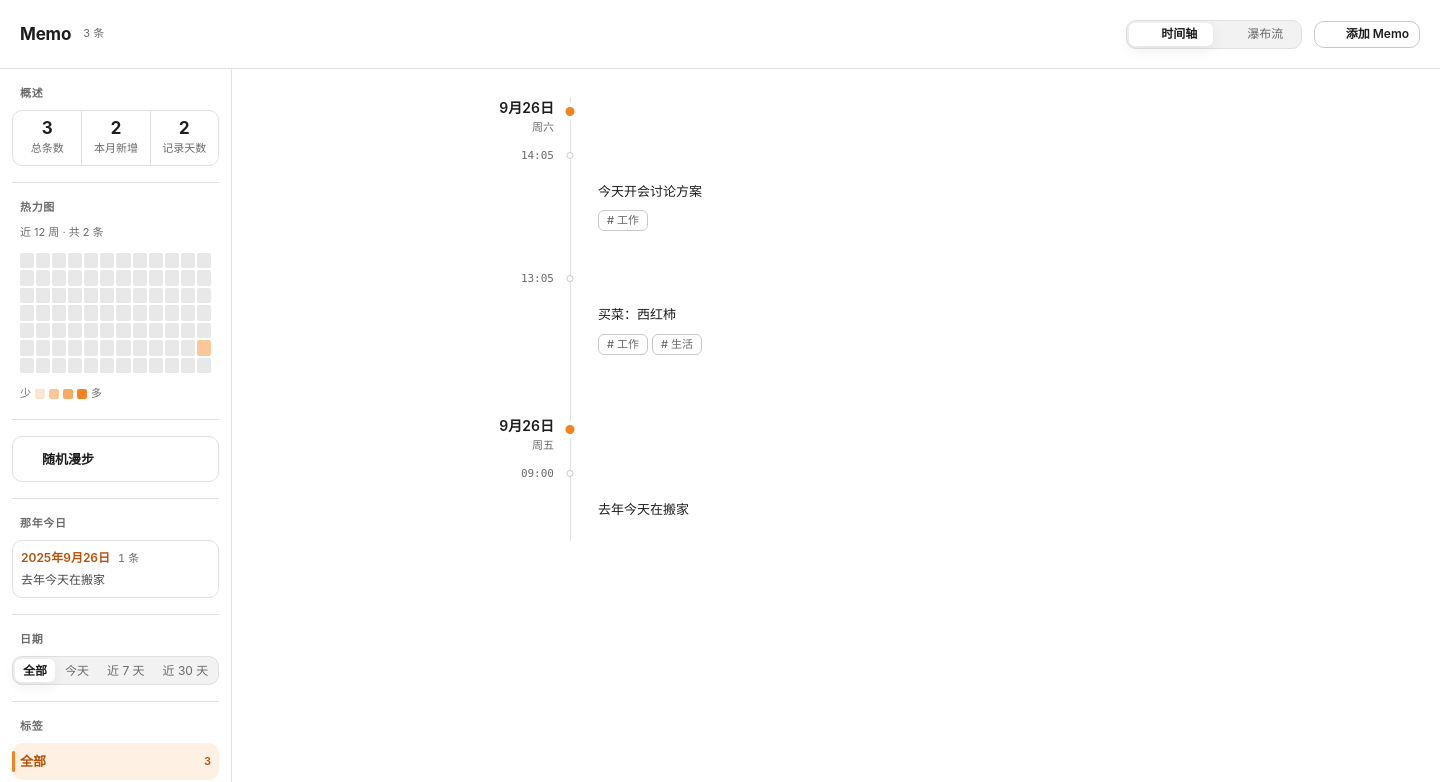
Test: 视图切换与图册 › 默认时间轴；切到瀑布流后没有图就给空态，出口是「切回时间轴」
Expected: the element with class "timeline" is shown, [466,89,1206,549]
Click the button "瀑布流" at (1257, 34), box [1215,22,1299,46]
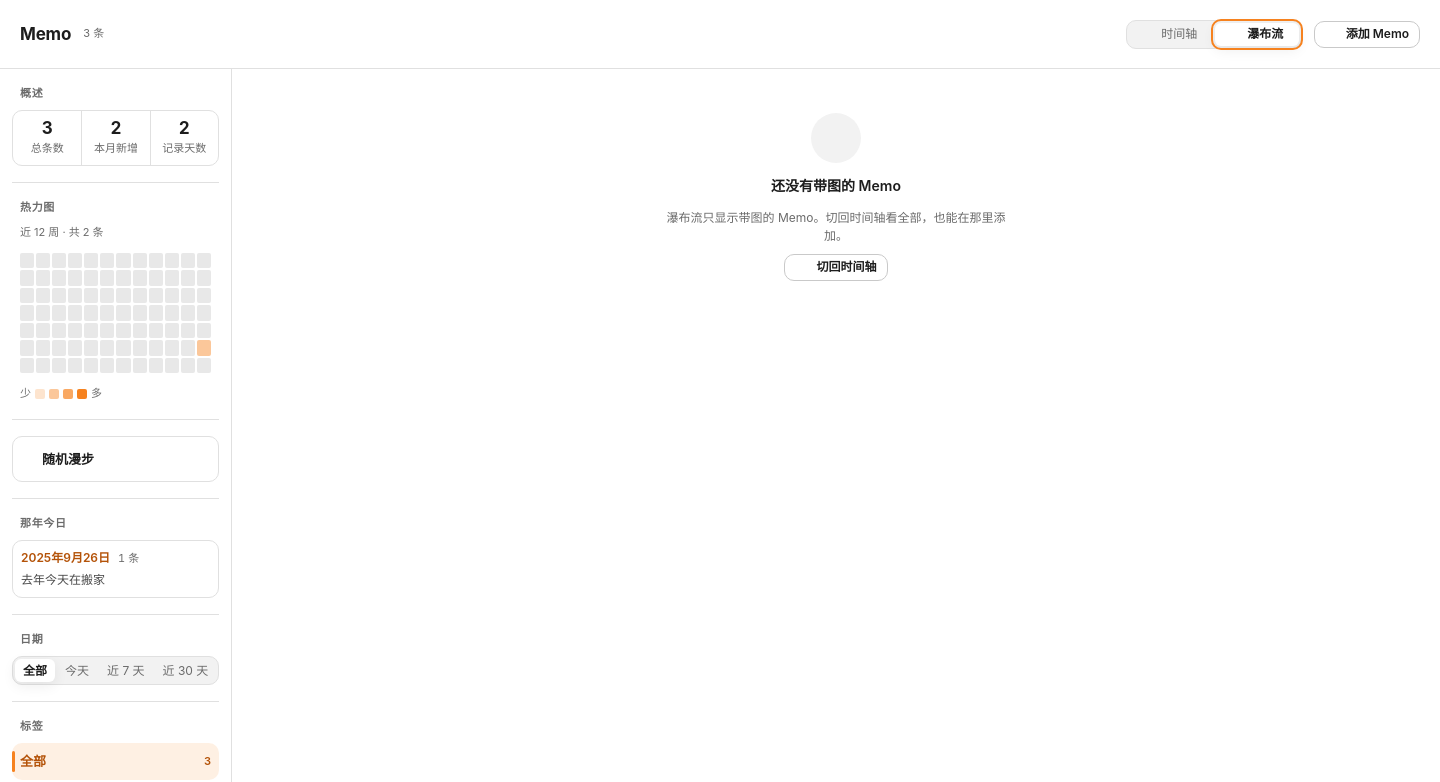
Expected: the text "还没有带图的 Memo" is shown, [771,175,901,197]
Click the button "切回时间轴" at (836, 267), box [784,254,888,281]
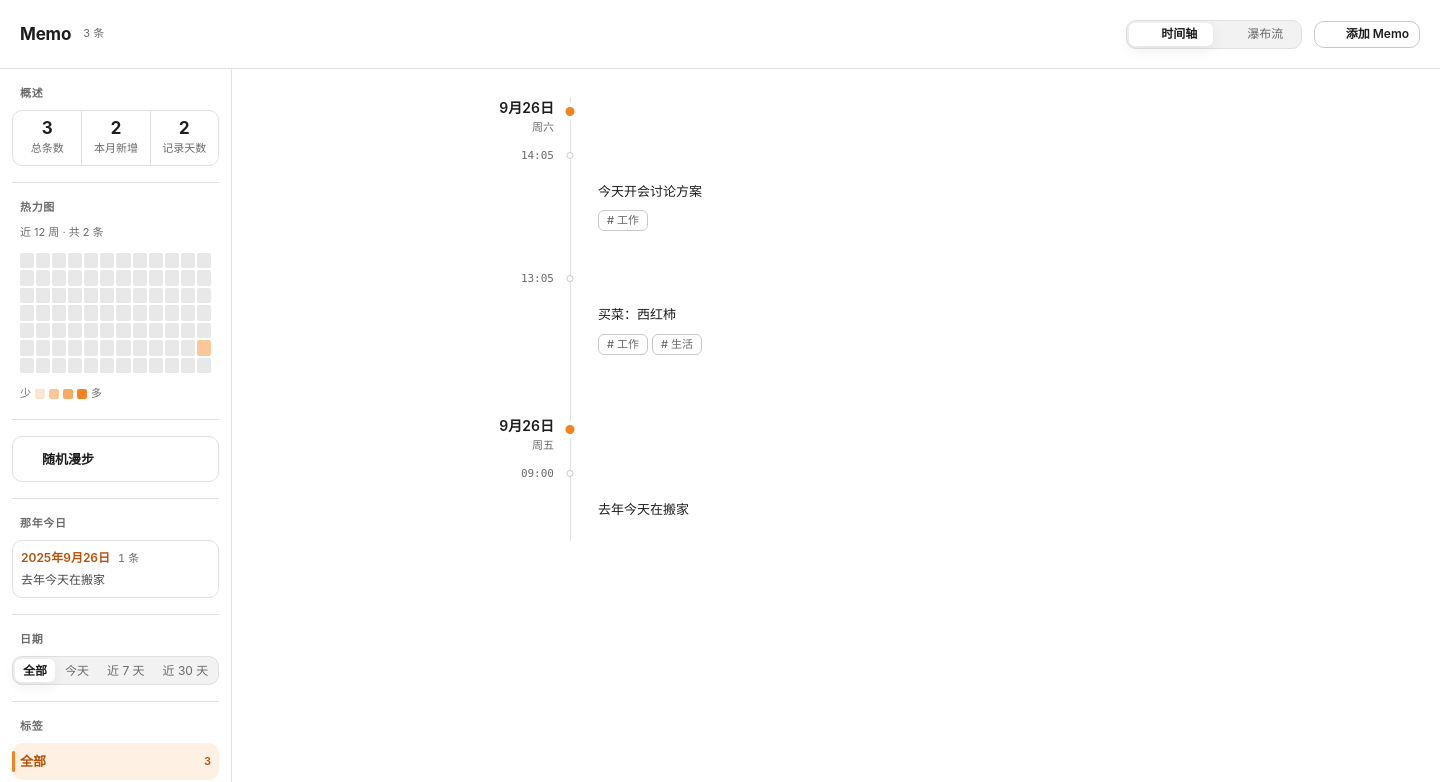
Expected: the element with class "timeline" is shown, [466,89,1206,549]
